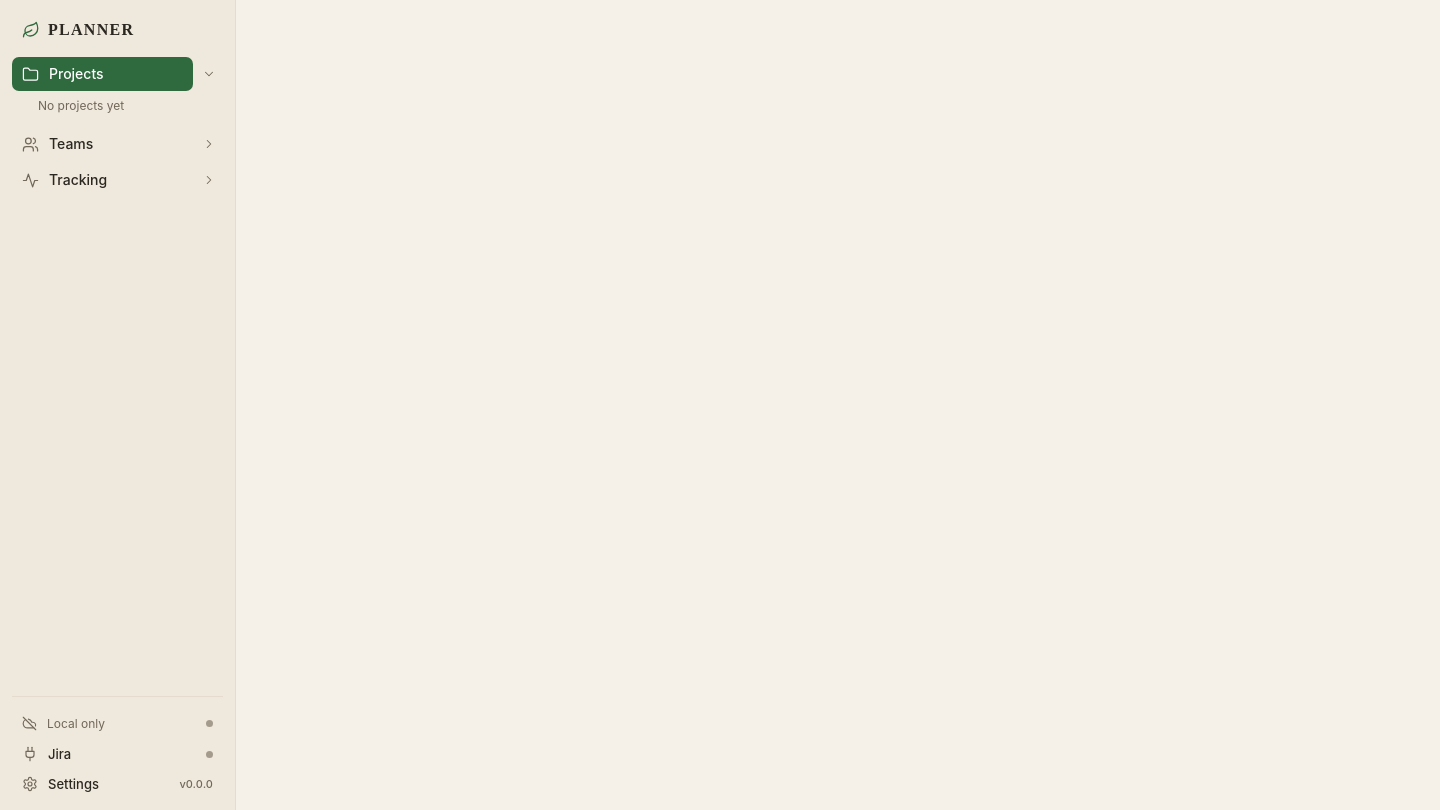
sync settings in a browser › rejects an unusable address without saving it
Click the button with aria-label "About Planner" at {"x": 118, "y": 784}, box x1=12 y1=770 x2=223 y2=798
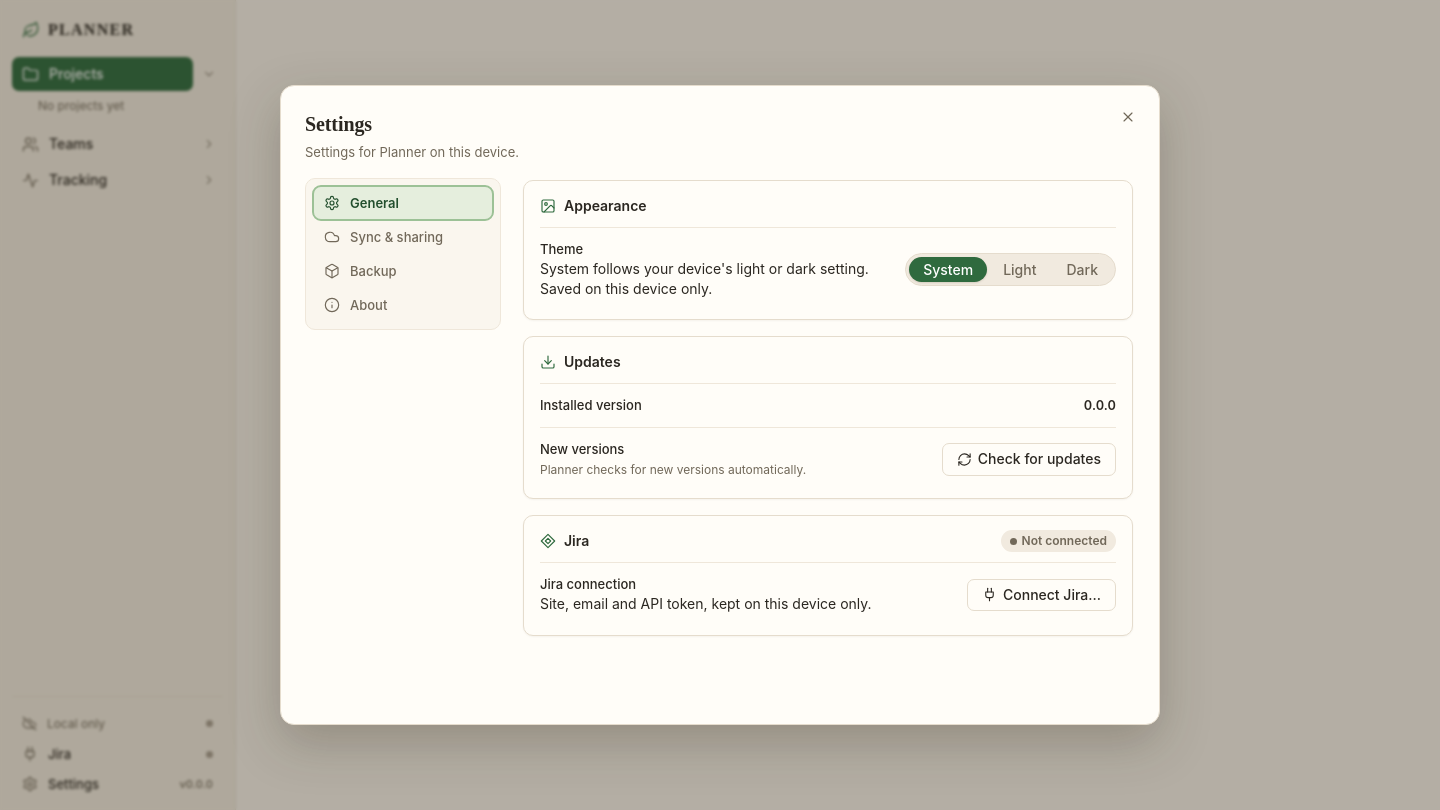
Click the tab "Sync & sharing" at {"x": 403, "y": 237}, box x1=314 y1=221 x2=492 y2=253
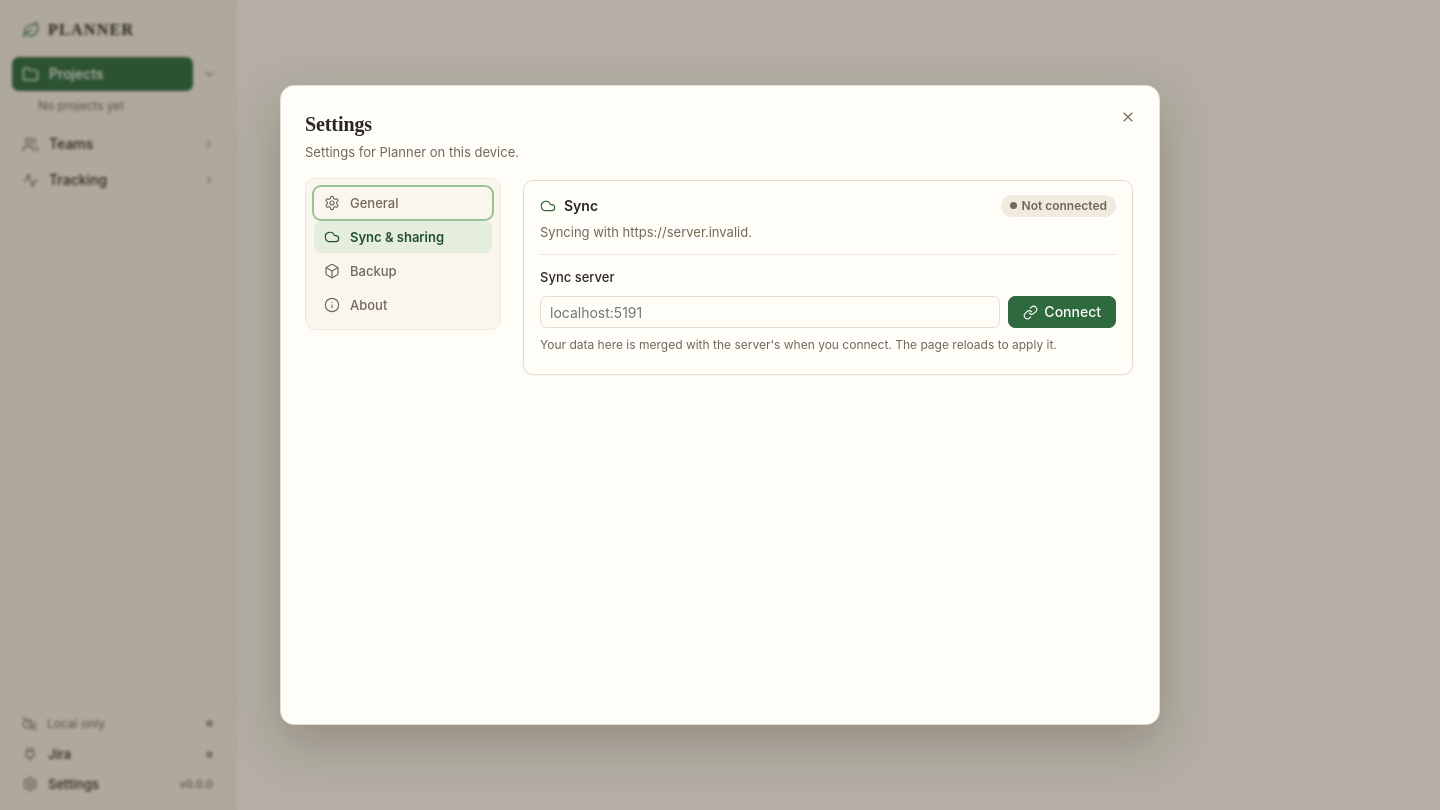
Type "ftp://nope" into the field labelled "Sync server" at {"x": 770, "y": 312}, box x1=540 y1=296 x2=1000 y2=328
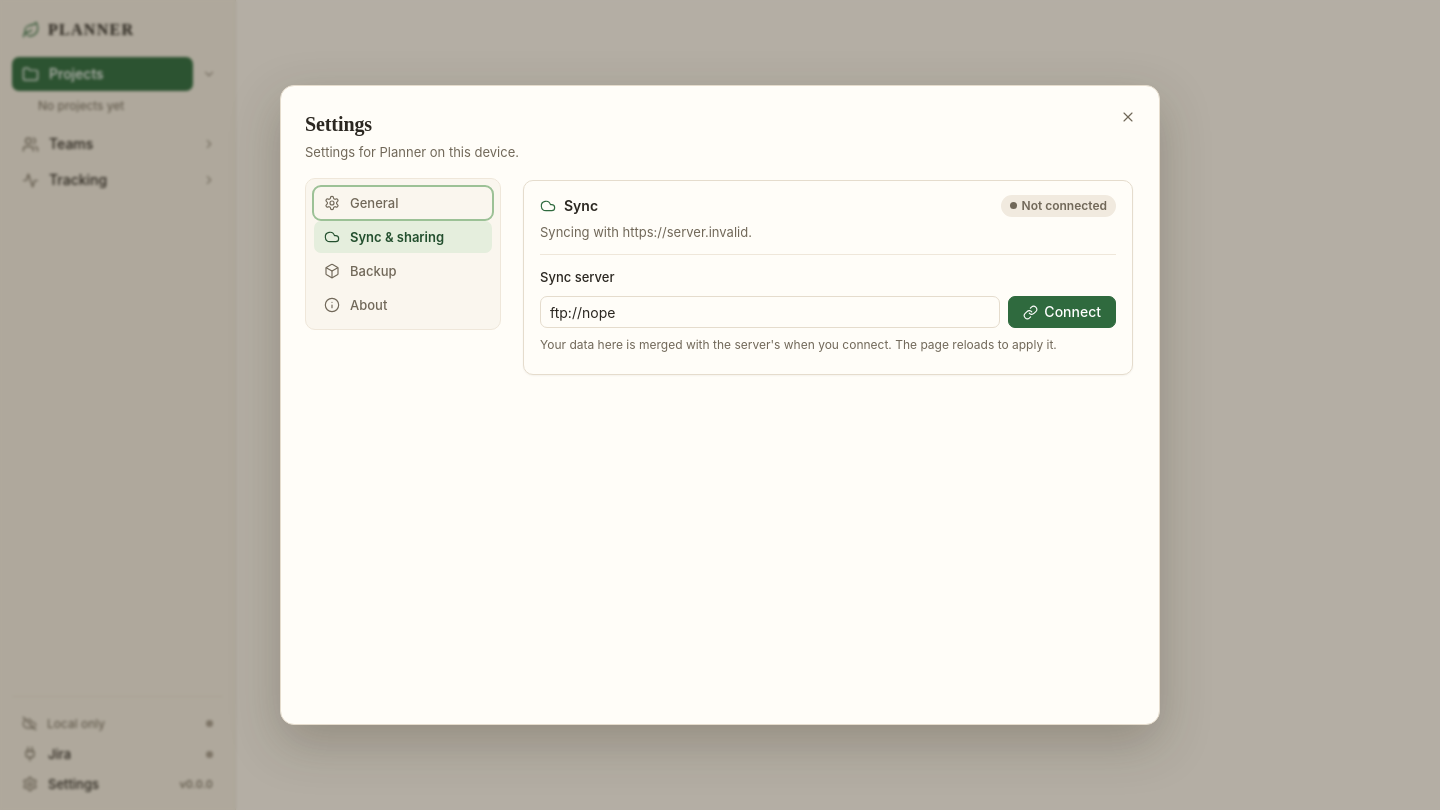
Click the button "Connect" at {"x": 1062, "y": 312}, box x1=1008 y1=296 x2=1116 y2=328
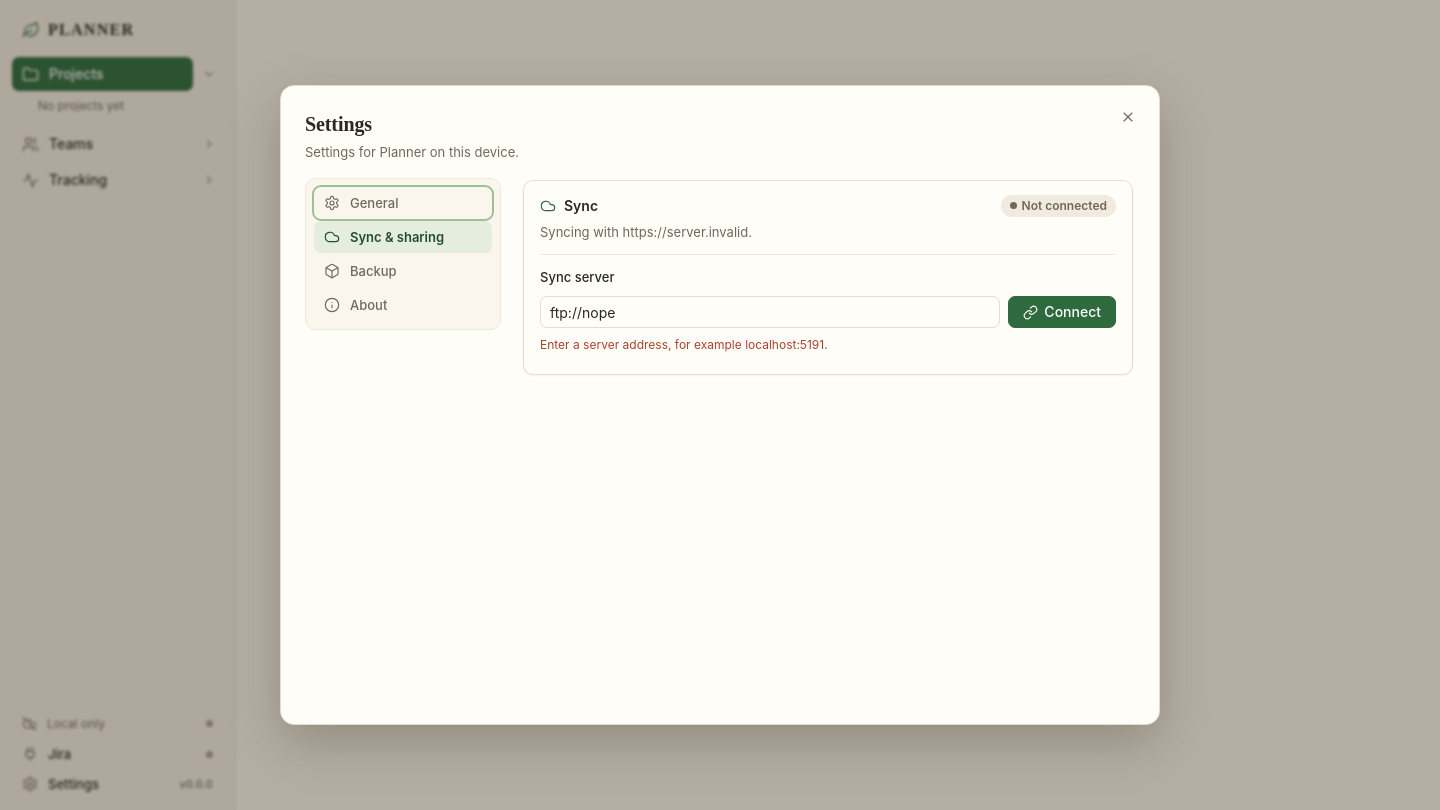
Expected: the message shows "server address", x1=540 y1=337 x2=828 y2=352
